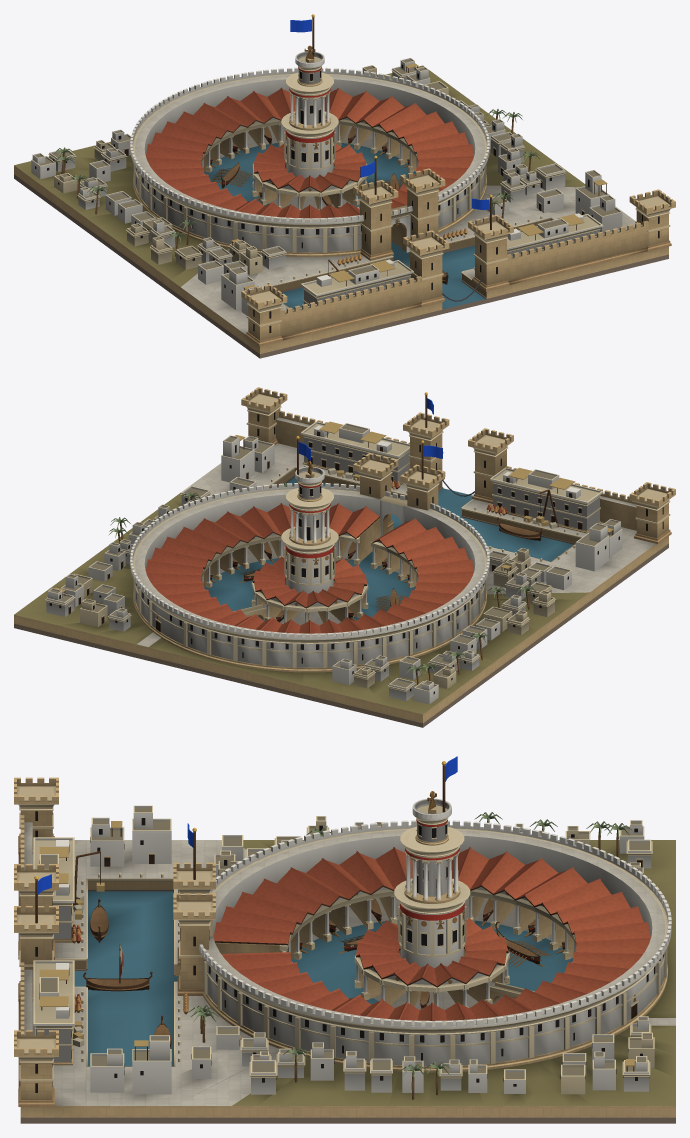
Rendered from lm_kothon.glb.
3 renders of one model, top to bottom at view 1: azimuth 30°, elevation 25°; view 2: azimuth 150°, elevation 25°; view 3: azimuth 270°, elevation 25°, orthographic. The views are drawn at different scales.
Parts seen in each view (by area): view 1: lm_kothon; view 2: lm_kothon; view 3: lm_kothon.
Part boxes in pixels (box(x1,y1,x2,y2)): lm_kothon: box(14, 14, 675, 358); lm_kothon: box(14, 387, 675, 727); lm_kothon: box(14, 756, 675, 1123).
Size of the model in its own units: 2.37 by 0.9568 by 2.45.
Materials: 1 (1 with a texture image).
